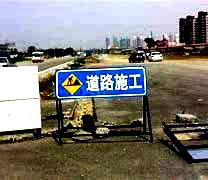sign: (56, 69, 146, 98)
